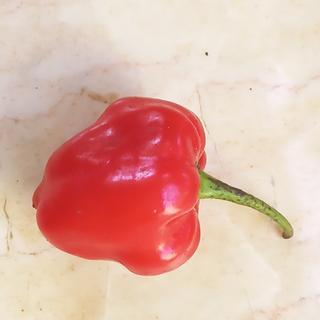Grade-B: (27, 89, 214, 280)
